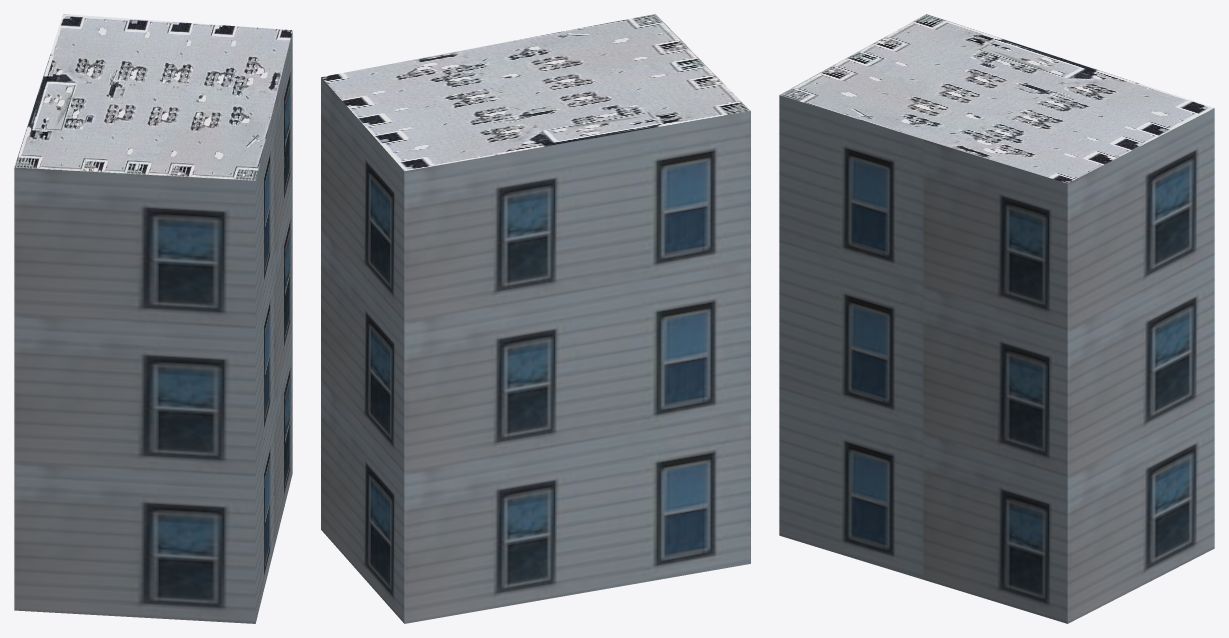
Rendered from ResTex__2202.fbx.
The picture shows the model from 3 angles, left to right: view 1: azimuth 30°, elevation 25°; view 2: azimuth 150°, elevation 25°; view 3: azimuth 270°, elevation 25°; orthographic projection. The views are drawn at different scales.
Visible parts, largest first — view 1: CityEngineMaterial_18_m, CityEngineMaterial_m; view 2: CityEngineMaterial_18_m, CityEngineMaterial_m; view 3: CityEngineMaterial_18_m, CityEngineMaterial_m.
Boxes of the visible parts, x1,y1,x2,y2 form: CityEngineMaterial_18_m: (14, 31, 292, 623); CityEngineMaterial_m: (14, 14, 292, 180); CityEngineMaterial_18_m: (321, 77, 750, 623); CityEngineMaterial_m: (321, 14, 750, 171); CityEngineMaterial_18_m: (779, 95, 1214, 623); CityEngineMaterial_m: (779, 14, 1214, 183).
Bounding box in the file's own units: 7.43 × 9 × 8.07.
Materials: 2 (2 with a texture image).
